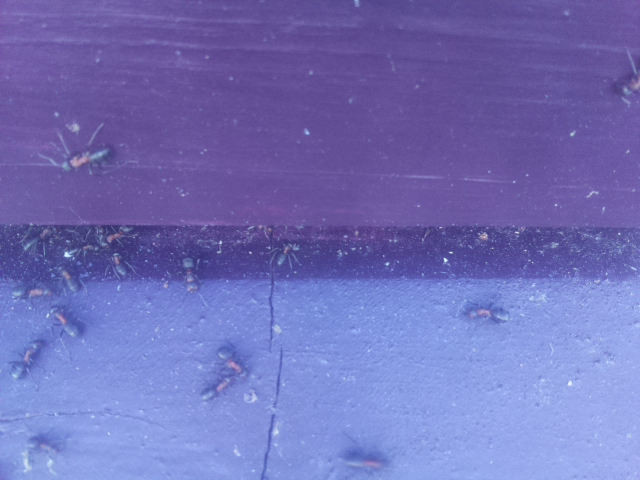ant: (4, 330, 52, 388), (51, 142, 118, 179), (453, 296, 516, 329), (44, 298, 84, 343), (173, 249, 206, 299), (210, 342, 250, 383), (266, 238, 305, 271), (52, 261, 82, 293), (10, 282, 48, 303), (110, 248, 127, 284), (106, 225, 137, 241)
